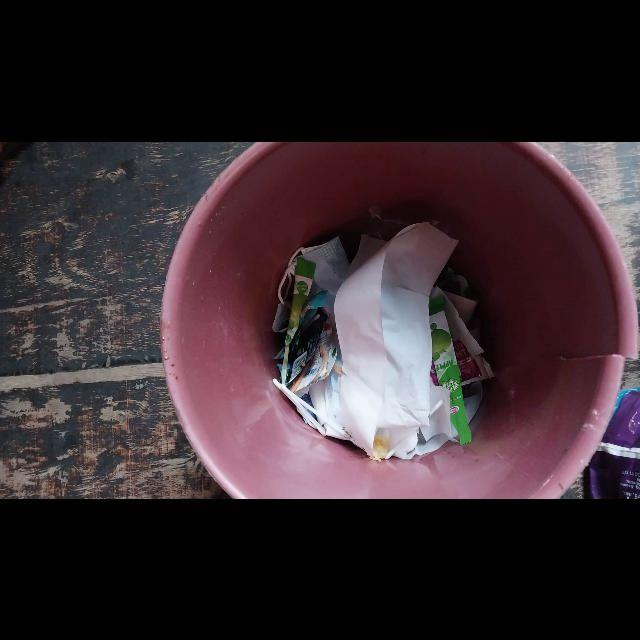food_wrapper: (429, 286, 472, 446), (281, 257, 316, 385)
paper: (326, 222, 459, 458)
